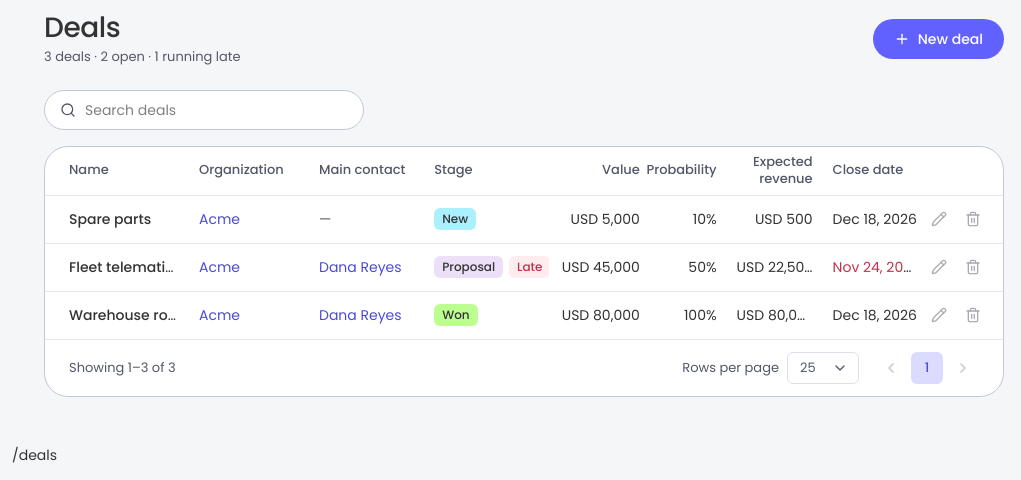
it: the deals table › finds deals by organization or contact
expect the table named "Deals" is shown: met, box [45,147,1003,339]
In the search field labelled "Search deals": (204, 110) [44,90,364,130], type "dana"
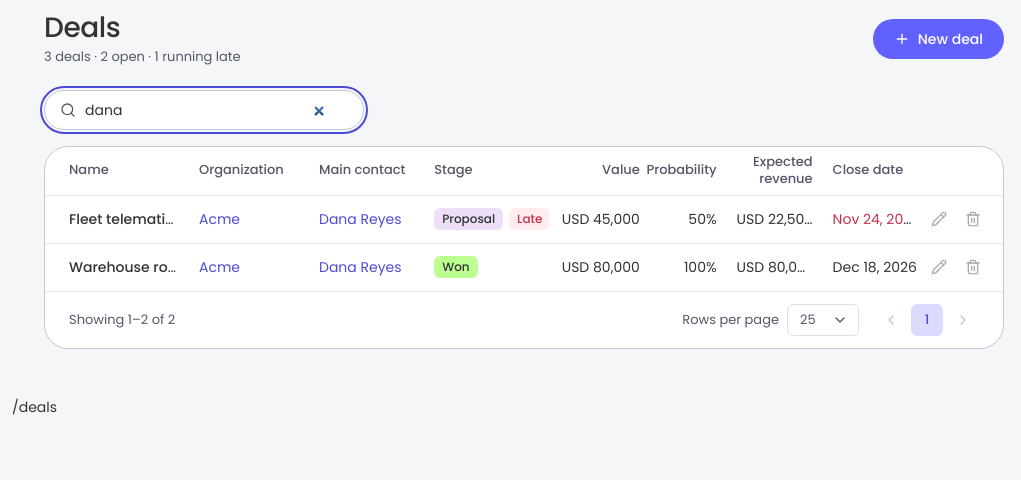
expect the link "Fleet telematics" is shown: met, box [69,209,181,229]
expect the link "Spare parts" is gone: met
